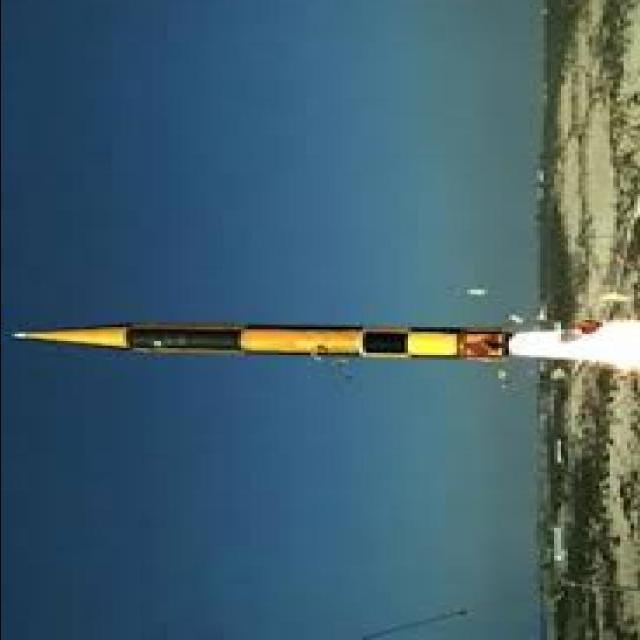Missile: (2, 321, 534, 362)
